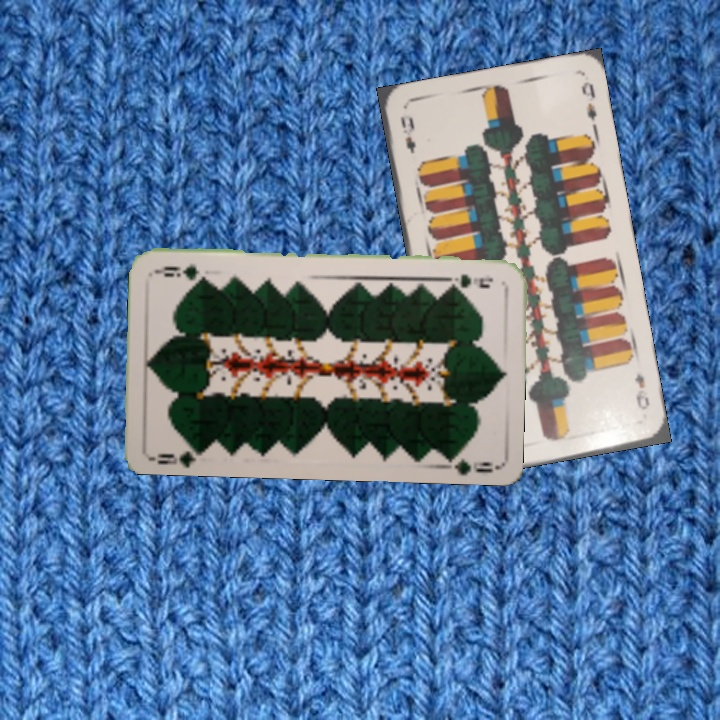E9: (396, 112, 418, 157), (630, 370, 652, 413)
G9: (147, 440, 207, 467), (443, 270, 495, 291)
